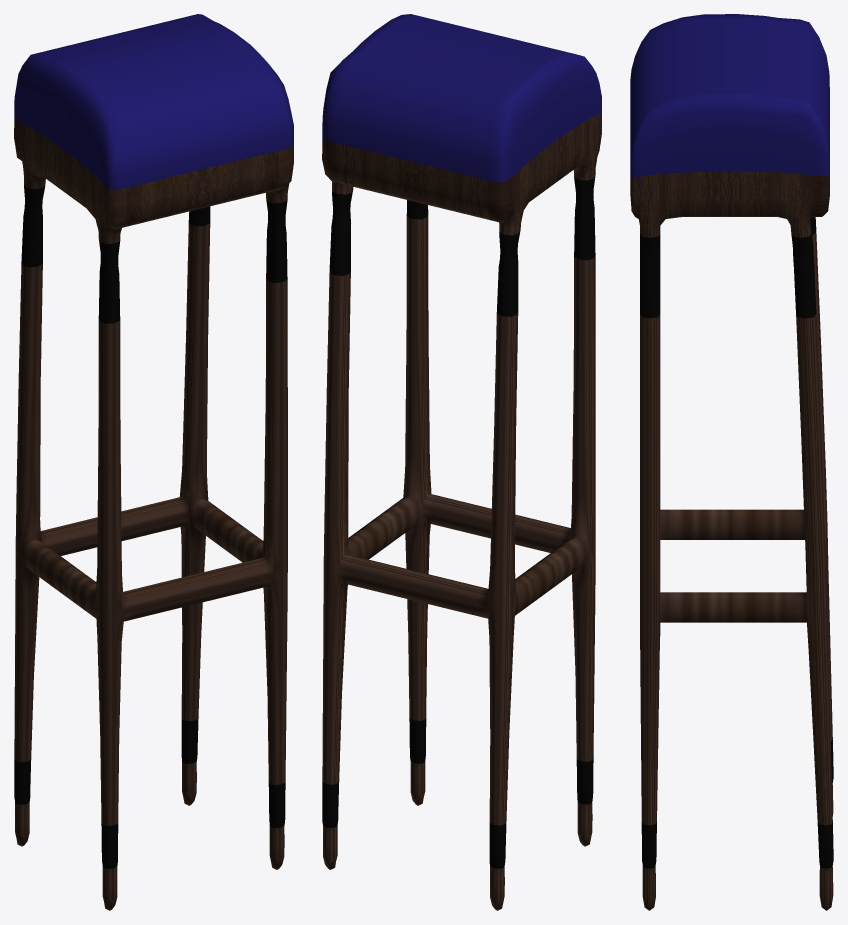
File: New_Bar_Stool_01a 1.FBX
3 renders of one model, left to right at view 1: azimuth 30°, elevation 25°; view 2: azimuth 150°, elevation 25°; view 3: azimuth 270°, elevation 25°, orthographic.
Parts seen in each view (by area): view 1: New Bar Chair 2; view 2: New Bar Chair 2; view 3: New Bar Chair 2.
Boxes of the visible parts, x1,y1,x2,y2 form: New Bar Chair 2: (14, 14, 293, 910); New Bar Chair 2: (322, 14, 601, 910); New Bar Chair 2: (630, 14, 833, 910).
Size of the model in its own units: 11.4 by 47.08 by 10.65.
Materials: 3 (2 with a texture image).
